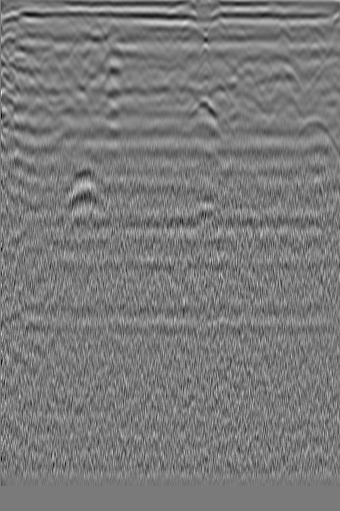상수: (298, 41, 330, 75)
오수: (8, 30, 41, 69)
우수: (142, 32, 175, 66)
